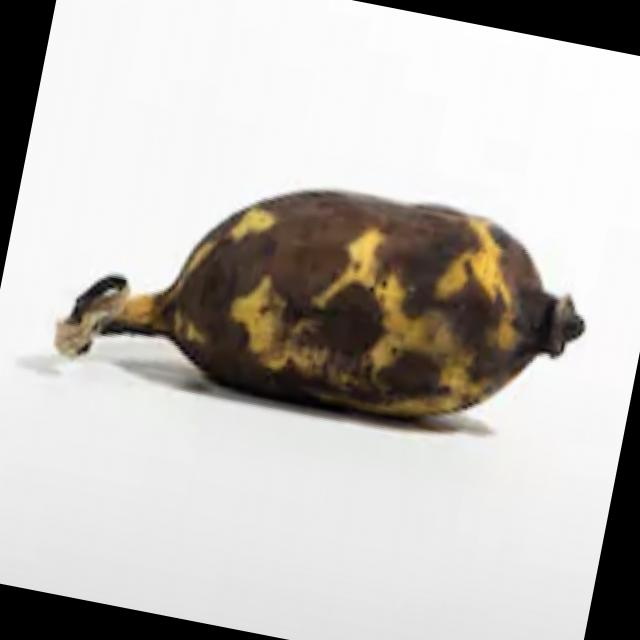rotten-banana: (102, 148, 592, 460)
